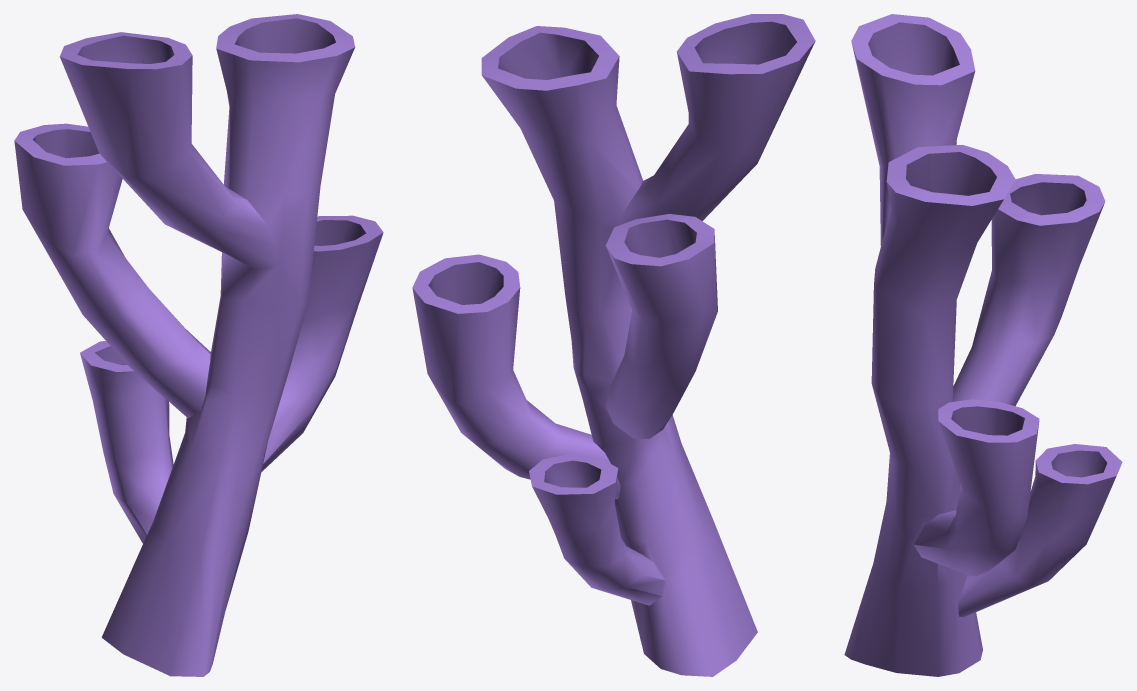
File: coral_tube_D_medium.fbx
The picture shows the model from 3 angles, left to right: view 1: azimuth 30°, elevation 25°; view 2: azimuth 150°, elevation 25°; view 3: azimuth 270°, elevation 25°; orthographic projection. The views are drawn at different scales.
Visible parts, largest first — view 1: coral_tube_D_medium; view 2: coral_tube_D_medium; view 3: coral_tube_D_medium.
Part boxes in pixels (left/top/right/bottom): coral_tube_D_medium: left=14, top=14, right=383, bottom=676; coral_tube_D_medium: left=412, top=14, right=815, bottom=676; coral_tube_D_medium: left=844, top=14, right=1122, bottom=676.
Bounding box in the file's own units: 25.86 × 44.18 × 18.66.
